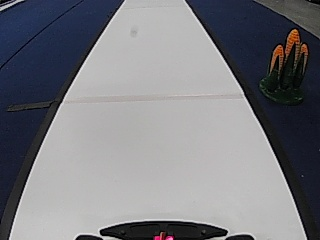corn: (258, 25, 309, 104)
